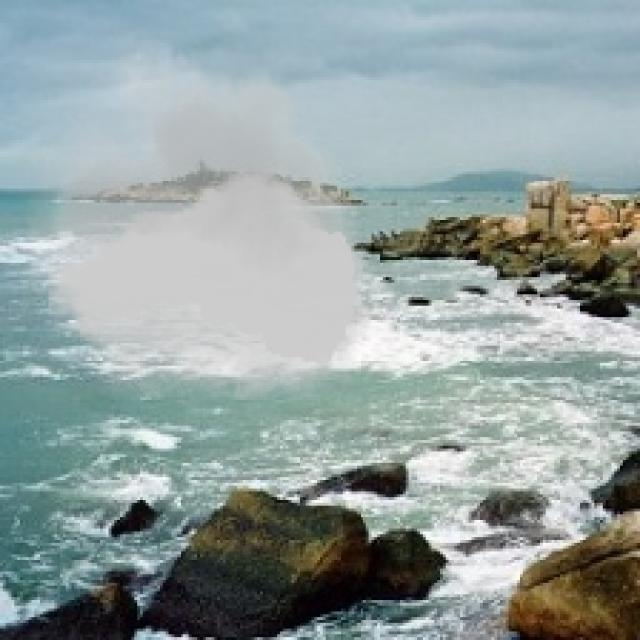Smoke: (26, 29, 383, 432)
